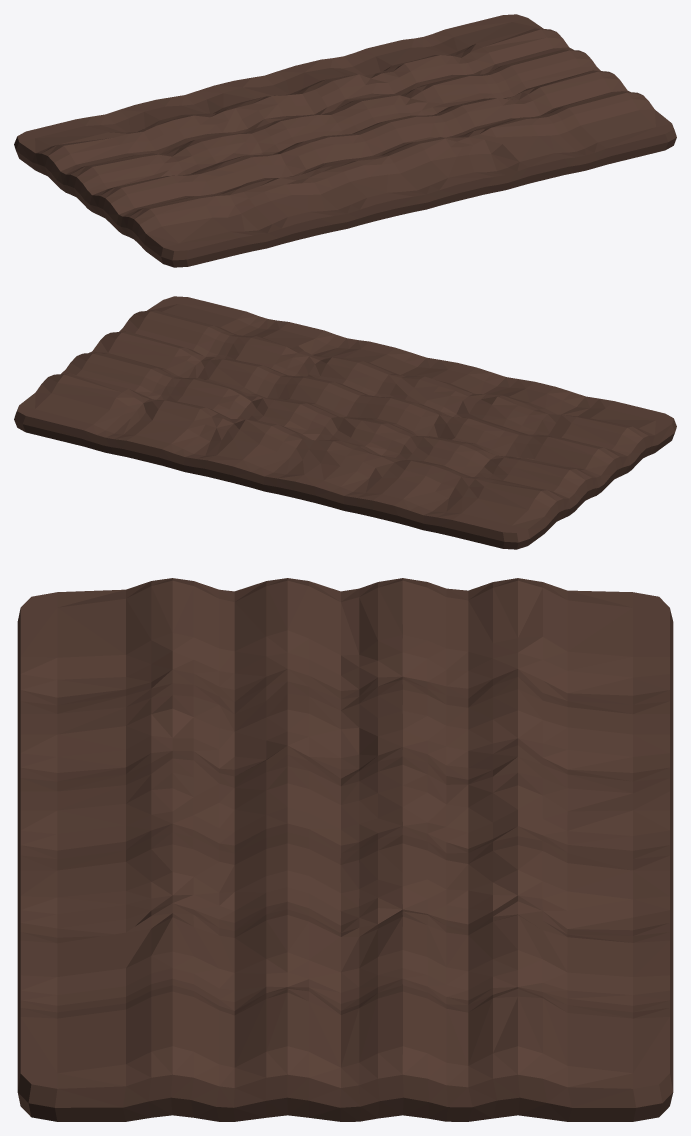
The model's file is Beet.fbx.
The picture shows the model from 3 angles, top to bottom: view 1: azimuth 30°, elevation 25°; view 2: azimuth 150°, elevation 25°; view 3: azimuth 270°, elevation 25°; orthographic projection. The views are drawn at different scales.
Visible parts, largest first — view 1: Cube.002; view 2: Cube.002; view 3: Cube.002.
Boxes of the visible parts, <box> form: Cube.002: <box>14,14,676,267</box>; Cube.002: <box>14,296,676,549</box>; Cube.002: <box>17,578,673,1121</box>.
Bounding box in the file's own units: 976 × 61.39 × 539.
